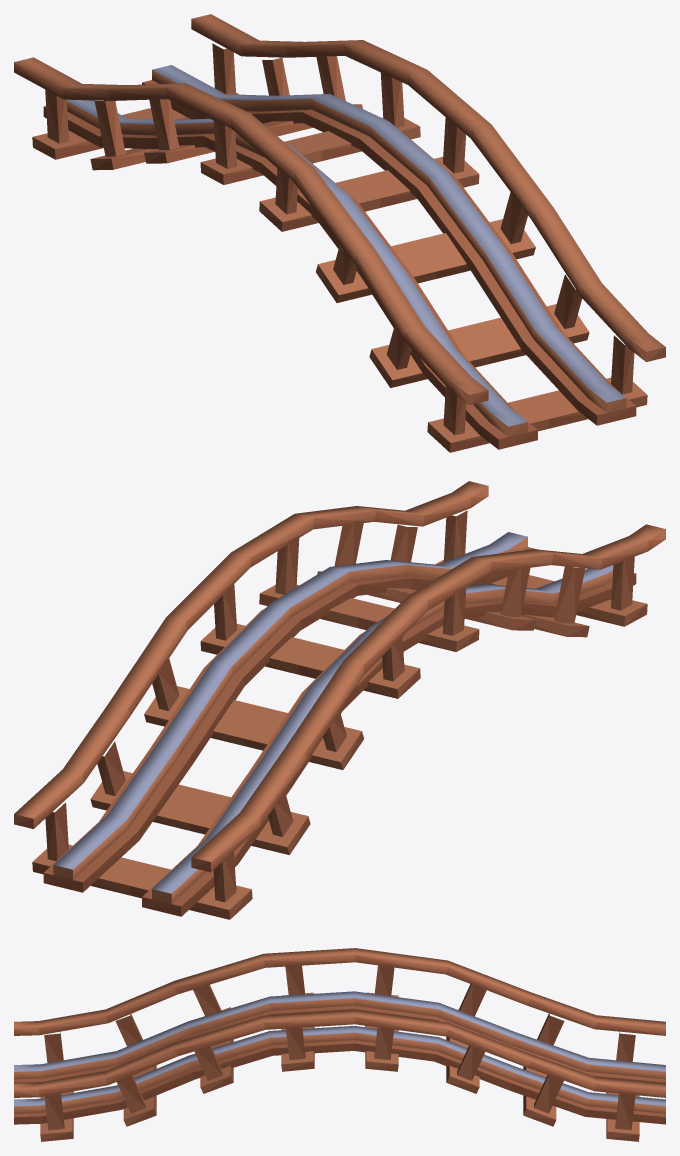
Rendered from coaster_coaster_wood_straight_bump_up.glb.
3 renders of one model, top to bottom at view 1: azimuth 30°, elevation 25°; view 2: azimuth 150°, elevation 25°; view 3: azimuth 270°, elevation 25°, orthographic. The views are drawn at different scales.
Parts seen in each view (by area): view 1: coaster_coaster_wood_straight_bump_up; view 2: coaster_coaster_wood_straight_bump_up; view 3: coaster_coaster_wood_straight_bump_up.
Part boxes in pixels (x1=…): coaster_coaster_wood_straight_bump_up: x1=14, y1=14, x2=665, y2=452; coaster_coaster_wood_straight_bump_up: x1=14, y1=481, x2=665, y2=919; coaster_coaster_wood_straight_bump_up: x1=14, y1=948, x2=665, y2=1141.
Size of the model in its own units: 1 by 0.8459 by 4.
